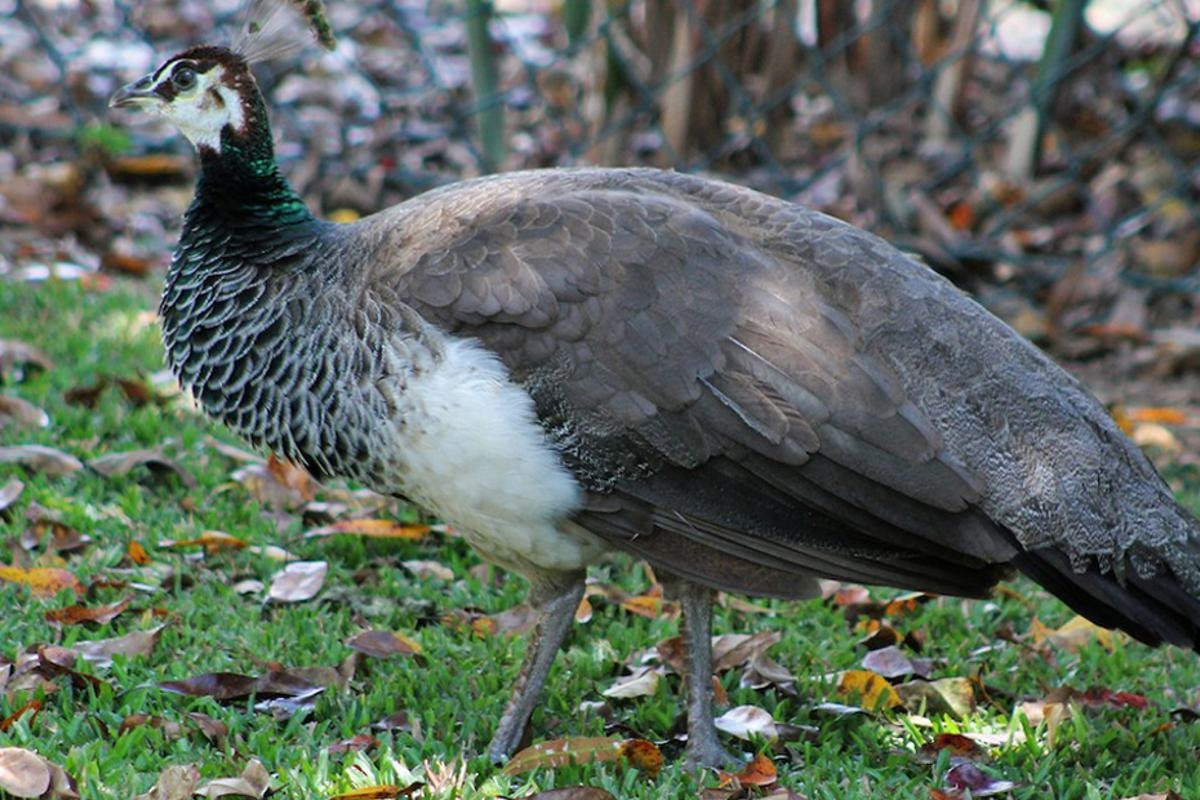peacock: (106, 14, 1063, 767)
